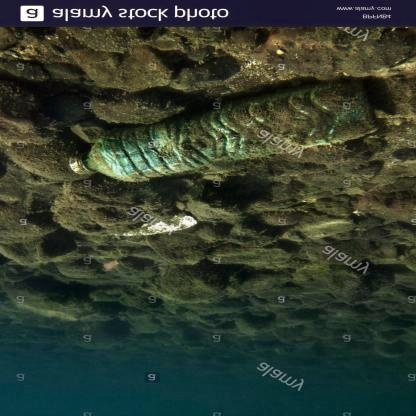misc: (113, 210, 232, 246)
pbottle: (59, 77, 388, 172)
